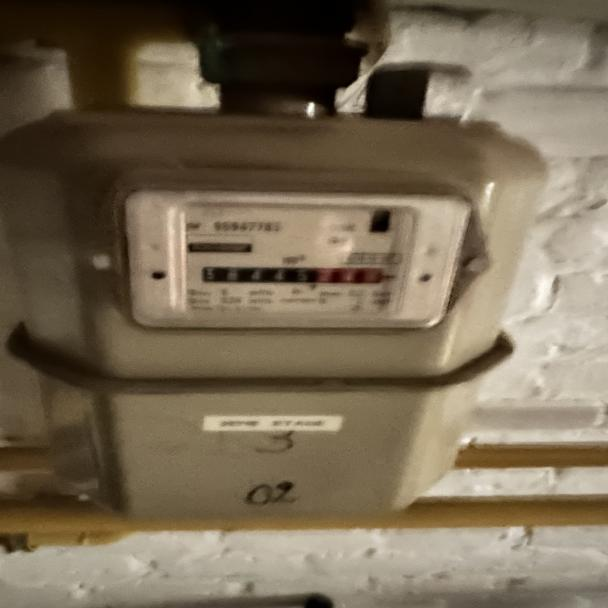3: (291, 266, 314, 286), (202, 266, 219, 284)
4: (248, 266, 269, 285)
5: (269, 265, 292, 285)
8: (222, 266, 246, 286)
cm: (318, 264, 384, 290)
counter: (198, 263, 316, 289)
